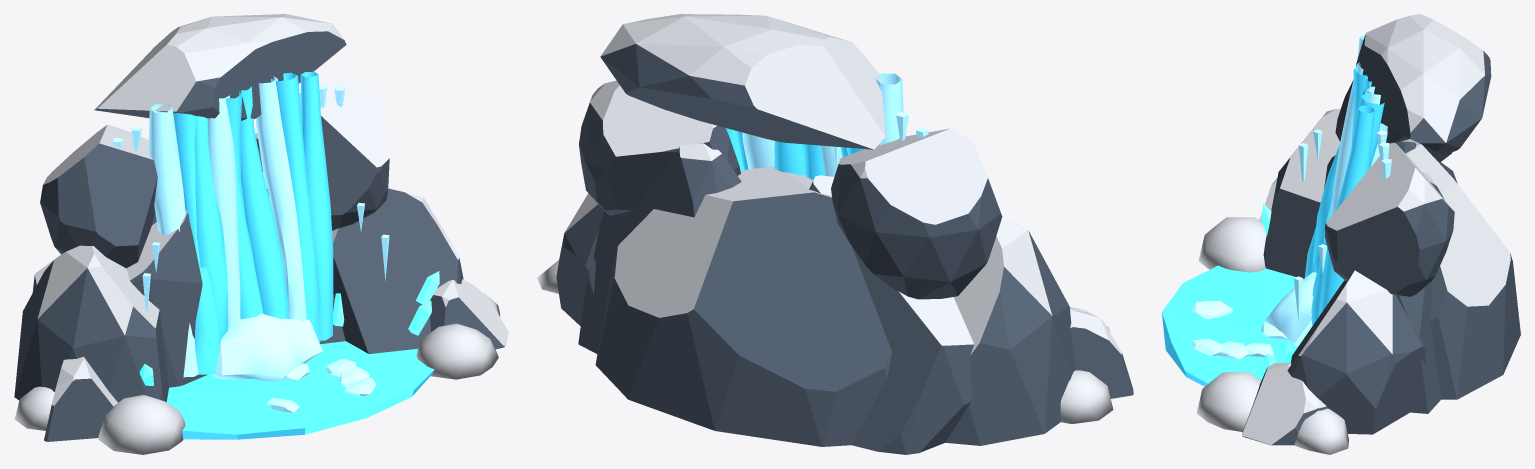
The model's file is frozen_waterfall.glb.
3 views of the same model, side by side, from view 1: azimuth 30°, elevation 25°; view 2: azimuth 150°, elevation 25°; view 3: azimuth 270°, elevation 25° (orthographic). The views are drawn at different scales.
Visible parts, largest first — view 1: frozen_waterfall; view 2: frozen_waterfall; view 3: frozen_waterfall.
Boxes of the visible parts, x1=… form: frozen_waterfall: x1=14, y1=14, x2=508, y2=454; frozen_waterfall: x1=537, y1=14, x2=1133, y2=454; frozen_waterfall: x1=1162, y1=14, x2=1520, y2=454.
Size of the model in its own units: 5.78 by 3.5 by 3.73.
